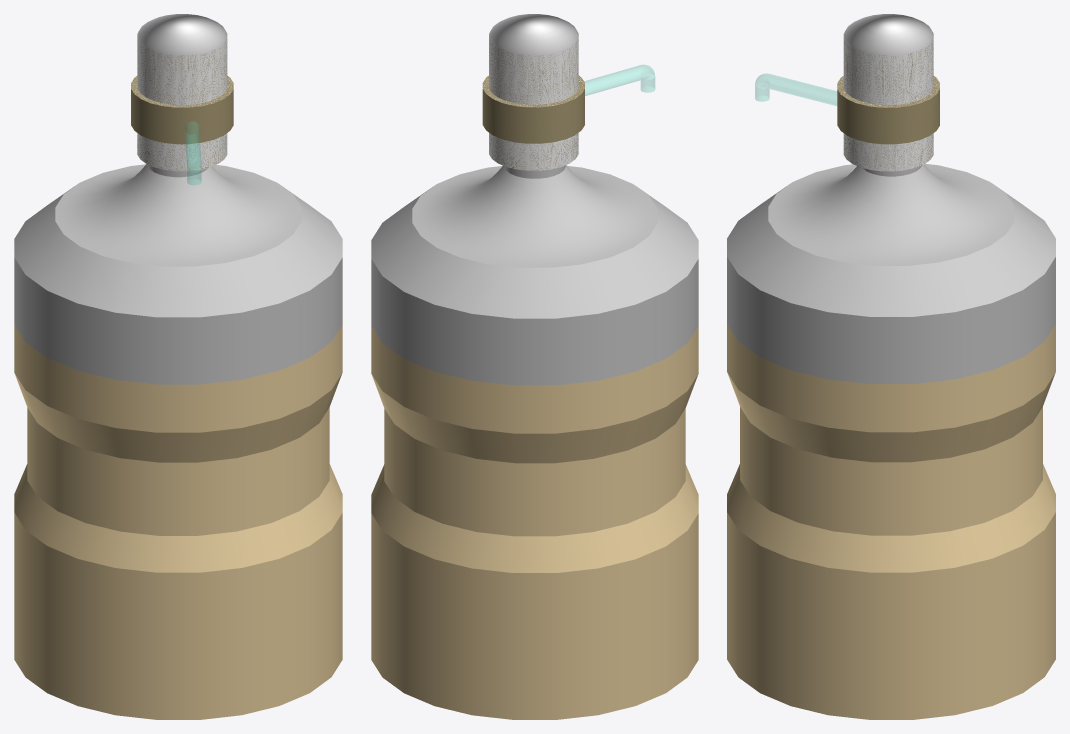
The picture shows the model from 3 angles, left to right: view 1: azimuth 30°, elevation 25°; view 2: azimuth 150°, elevation 25°; view 3: azimuth 270°, elevation 25°; orthographic projection.
Parts seen in each view (by area): view 1: mesh16_mesh16-geometry, mesh5_mesh5-geometry, mesh4_mesh4-geometry, mesh1_mesh1-geometry; view 2: mesh16_mesh16-geometry, mesh5_mesh5-geometry, mesh4_mesh4-geometry, mesh1_mesh1-geometry; view 3: mesh16_mesh16-geometry, mesh5_mesh5-geometry, mesh4_mesh4-geometry, mesh1_mesh1-geometry.
Part boxes in pixels (box(x1,y1,x2,y2)): mesh16_mesh16-geometry: box(14, 164, 342, 719); mesh5_mesh5-geometry: box(131, 39, 233, 171); mesh4_mesh4-geometry: box(137, 14, 227, 55); mesh1_mesh1-geometry: box(185, 122, 201, 184); mesh16_mesh16-geometry: box(371, 165, 698, 719); mesh5_mesh5-geometry: box(482, 39, 584, 170); mesh4_mesh4-geometry: box(489, 14, 578, 55); mesh1_mesh1-geometry: box(584, 65, 654, 95); mesh16_mesh16-geometry: box(727, 163, 1055, 719); mesh5_mesh5-geometry: box(837, 39, 939, 171); mesh4_mesh4-geometry: box(843, 14, 933, 55); mesh1_mesh1-geometry: box(755, 73, 836, 105).
Bounding box in the file's own units: 0.3871 × 0.8368 × 0.3872.
